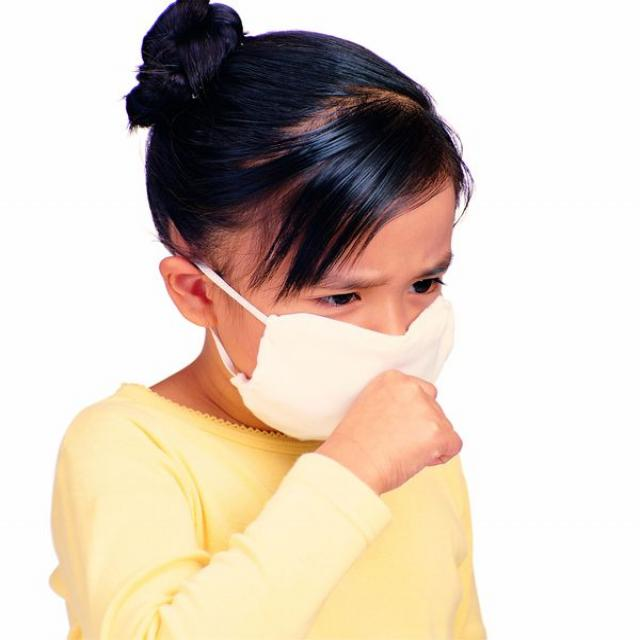mask: (233, 150, 460, 439)
